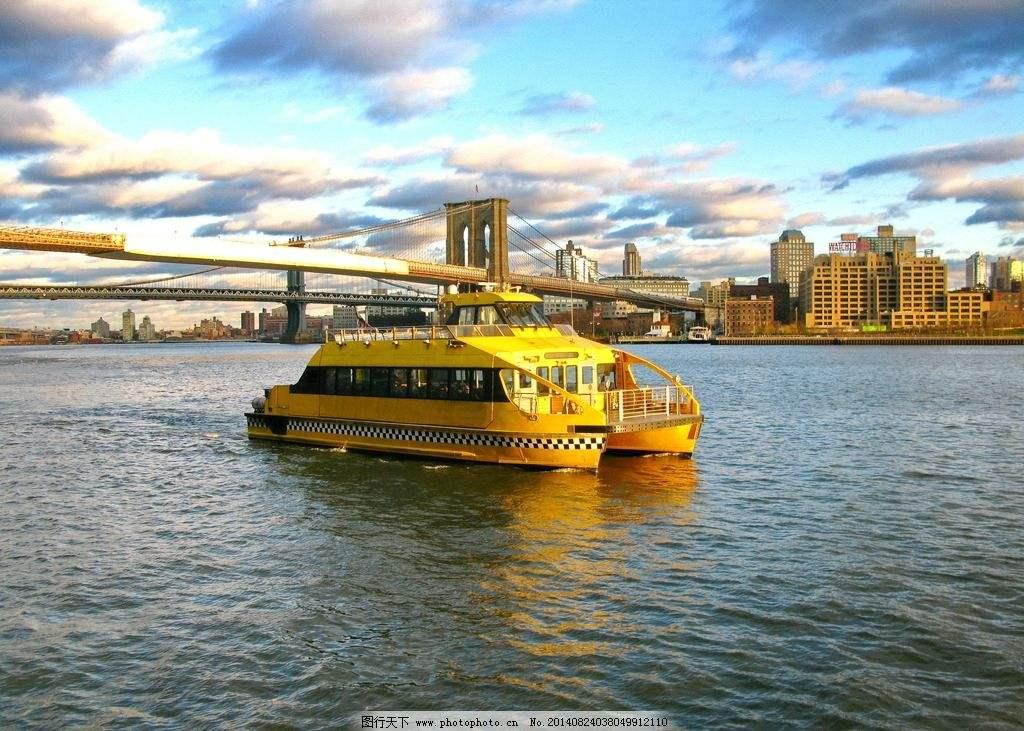yacht: (234, 269, 729, 468)
